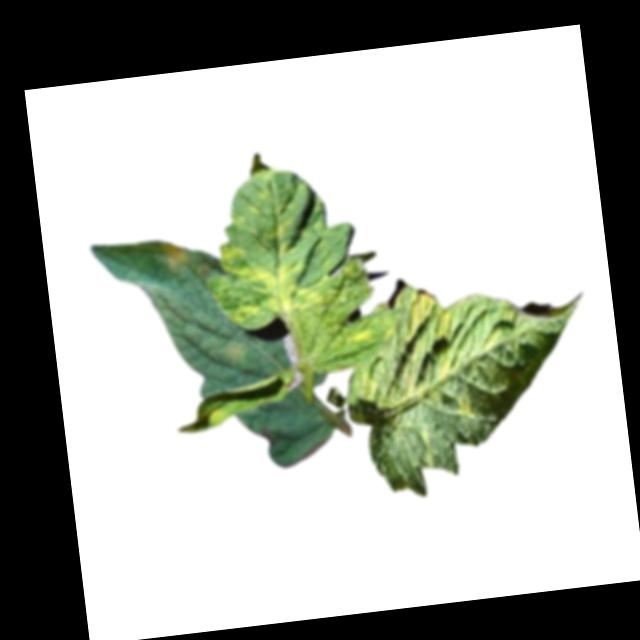Leaf_Mold: (199, 158, 335, 332), (381, 284, 464, 389), (162, 237, 193, 272), (342, 318, 378, 347), (220, 334, 249, 364), (452, 388, 475, 418)
